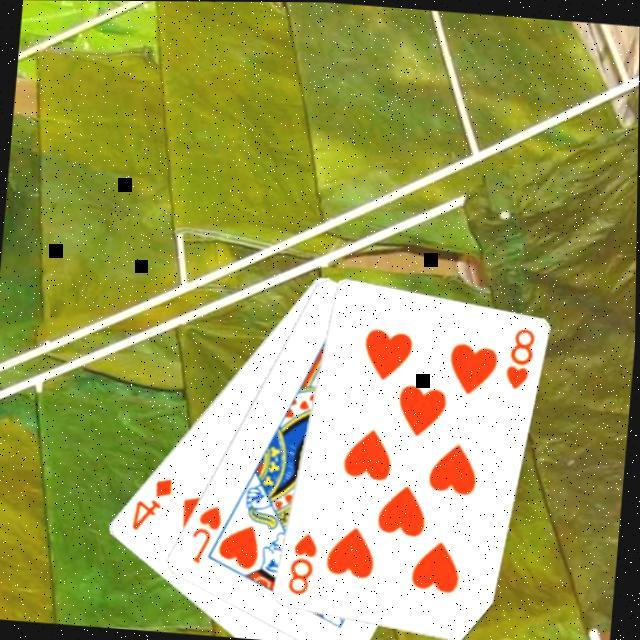4D: (126, 471, 174, 534)
8H: (282, 526, 320, 598), (498, 321, 536, 391)
JH: (185, 498, 225, 566)
